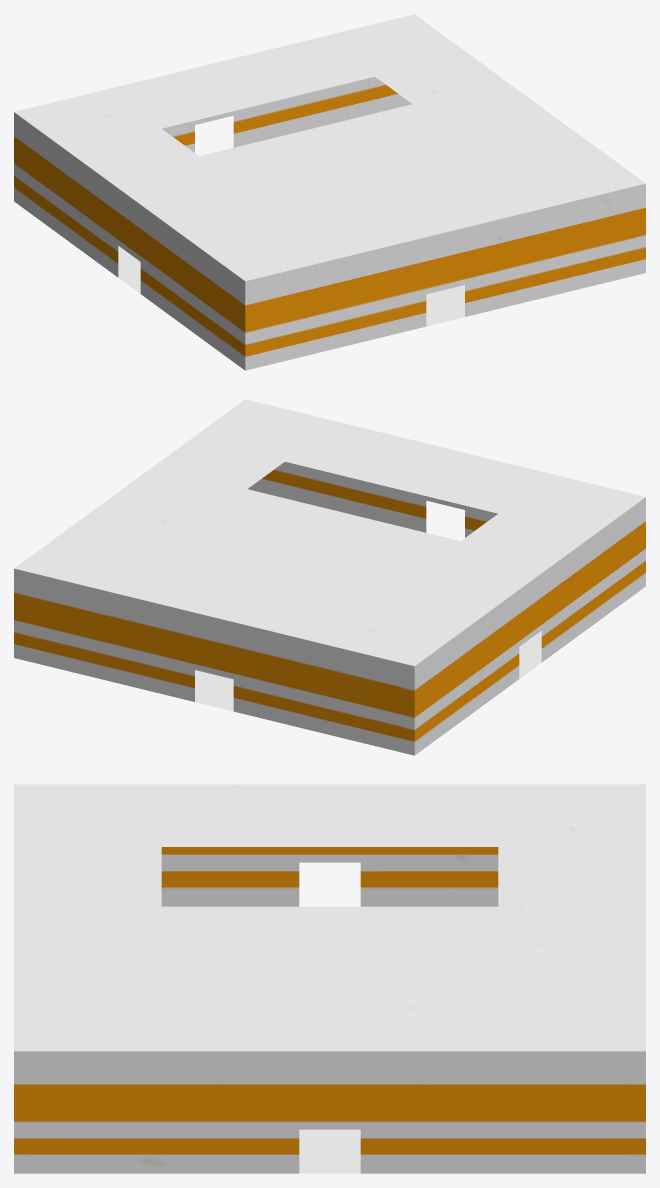
3 renders of one model, top to bottom at view 1: azimuth 30°, elevation 25°; view 2: azimuth 150°, elevation 25°; view 3: azimuth 270°, elevation 25°, orthographic. The views are drawn at different scales.
Parts seen in each view (by area): view 1: size; view 2: size; view 3: size.
Part boxes in pixels (x1=…): size: x1=14, y1=14, x2=645, y2=370; size: x1=14, y1=399, x2=645, y2=755; size: x1=14, y1=784, x2=645, y2=1173.
Bounding box in the file's own units: 2250 × 480 × 2250.
1 material, 1 textured.
